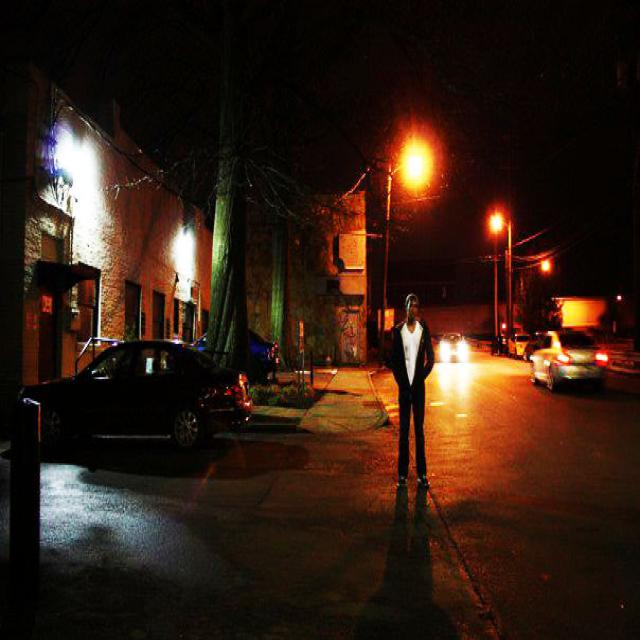People: (380, 276, 451, 538)
car: (23, 325, 253, 485), (184, 292, 299, 385), (519, 319, 612, 426), (437, 315, 477, 384), (506, 310, 539, 378)
